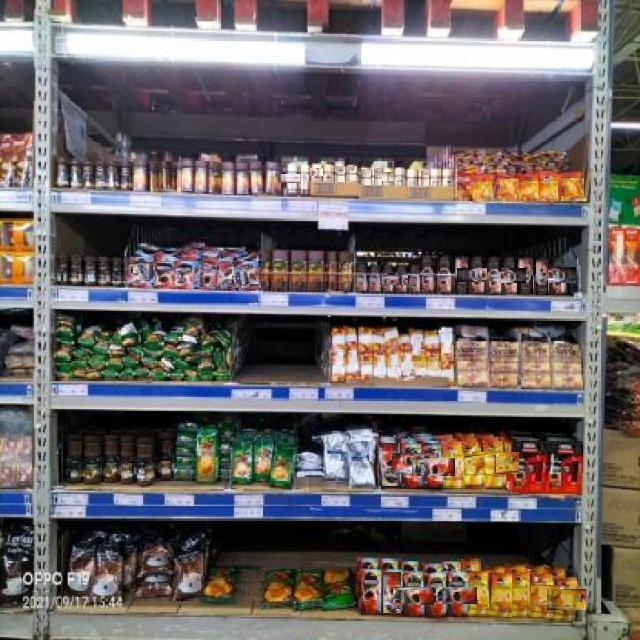Coffee: (442, 442, 464, 487), (472, 453, 519, 474), (378, 442, 400, 486), (491, 574, 512, 617), (453, 454, 496, 474), (522, 586, 565, 606), (392, 454, 434, 474), (469, 573, 489, 615), (412, 457, 455, 476), (546, 590, 586, 610), (394, 586, 434, 605), (362, 571, 380, 613), (513, 575, 531, 617), (383, 572, 401, 613), (437, 586, 477, 604), (427, 574, 444, 615), (126, 262, 155, 283), (518, 257, 533, 294), (458, 267, 495, 282), (438, 257, 453, 294), (539, 268, 576, 283), (155, 258, 174, 287), (454, 256, 468, 294), (491, 268, 526, 283), (421, 256, 435, 293), (487, 257, 501, 294), (175, 261, 194, 288), (234, 267, 261, 286), (535, 258, 548, 295), (558, 178, 584, 196), (540, 173, 557, 200), (519, 174, 538, 198), (194, 268, 218, 287), (495, 178, 519, 196), (218, 261, 234, 288), (386, 273, 416, 285), (408, 265, 420, 294), (356, 264, 368, 292), (368, 266, 380, 294), (374, 274, 403, 285), (300, 165, 310, 195), (278, 175, 310, 183), (360, 168, 371, 185), (346, 165, 357, 181), (335, 165, 345, 182), (395, 168, 405, 185), (408, 169, 418, 186), (444, 169, 454, 186), (380, 172, 398, 181), (323, 164, 332, 181), (373, 168, 382, 185), (431, 169, 440, 186), (420, 169, 429, 186), (308, 169, 325, 176)
